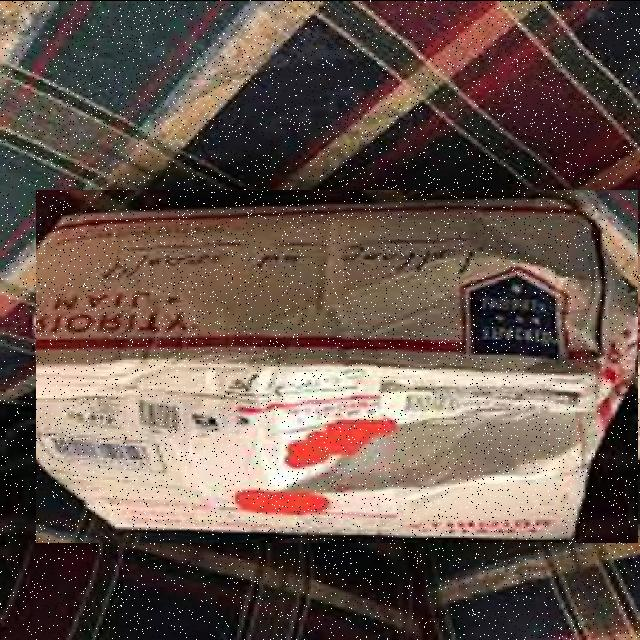defect: (36, 189, 638, 542)
